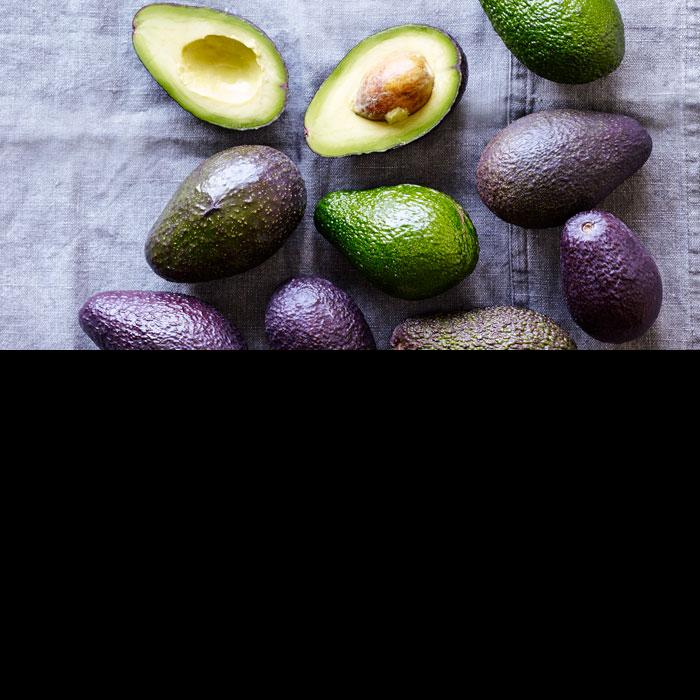almost: (145, 145, 307, 284), (388, 306, 577, 349)
ripe: (476, 108, 653, 229), (561, 210, 663, 344), (78, 291, 247, 350), (263, 275, 376, 350)
unripe: (313, 184, 479, 299), (479, 1, 626, 85)
